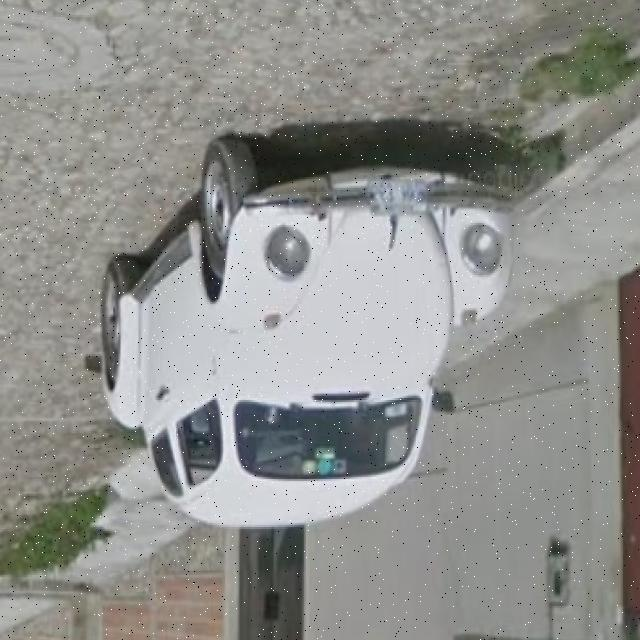car: (105, 138, 515, 540)
